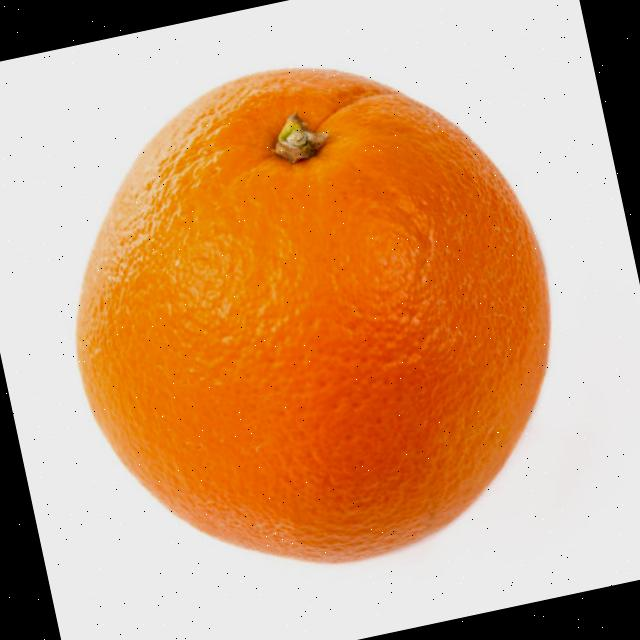Ripe: (19, 18, 604, 608)
